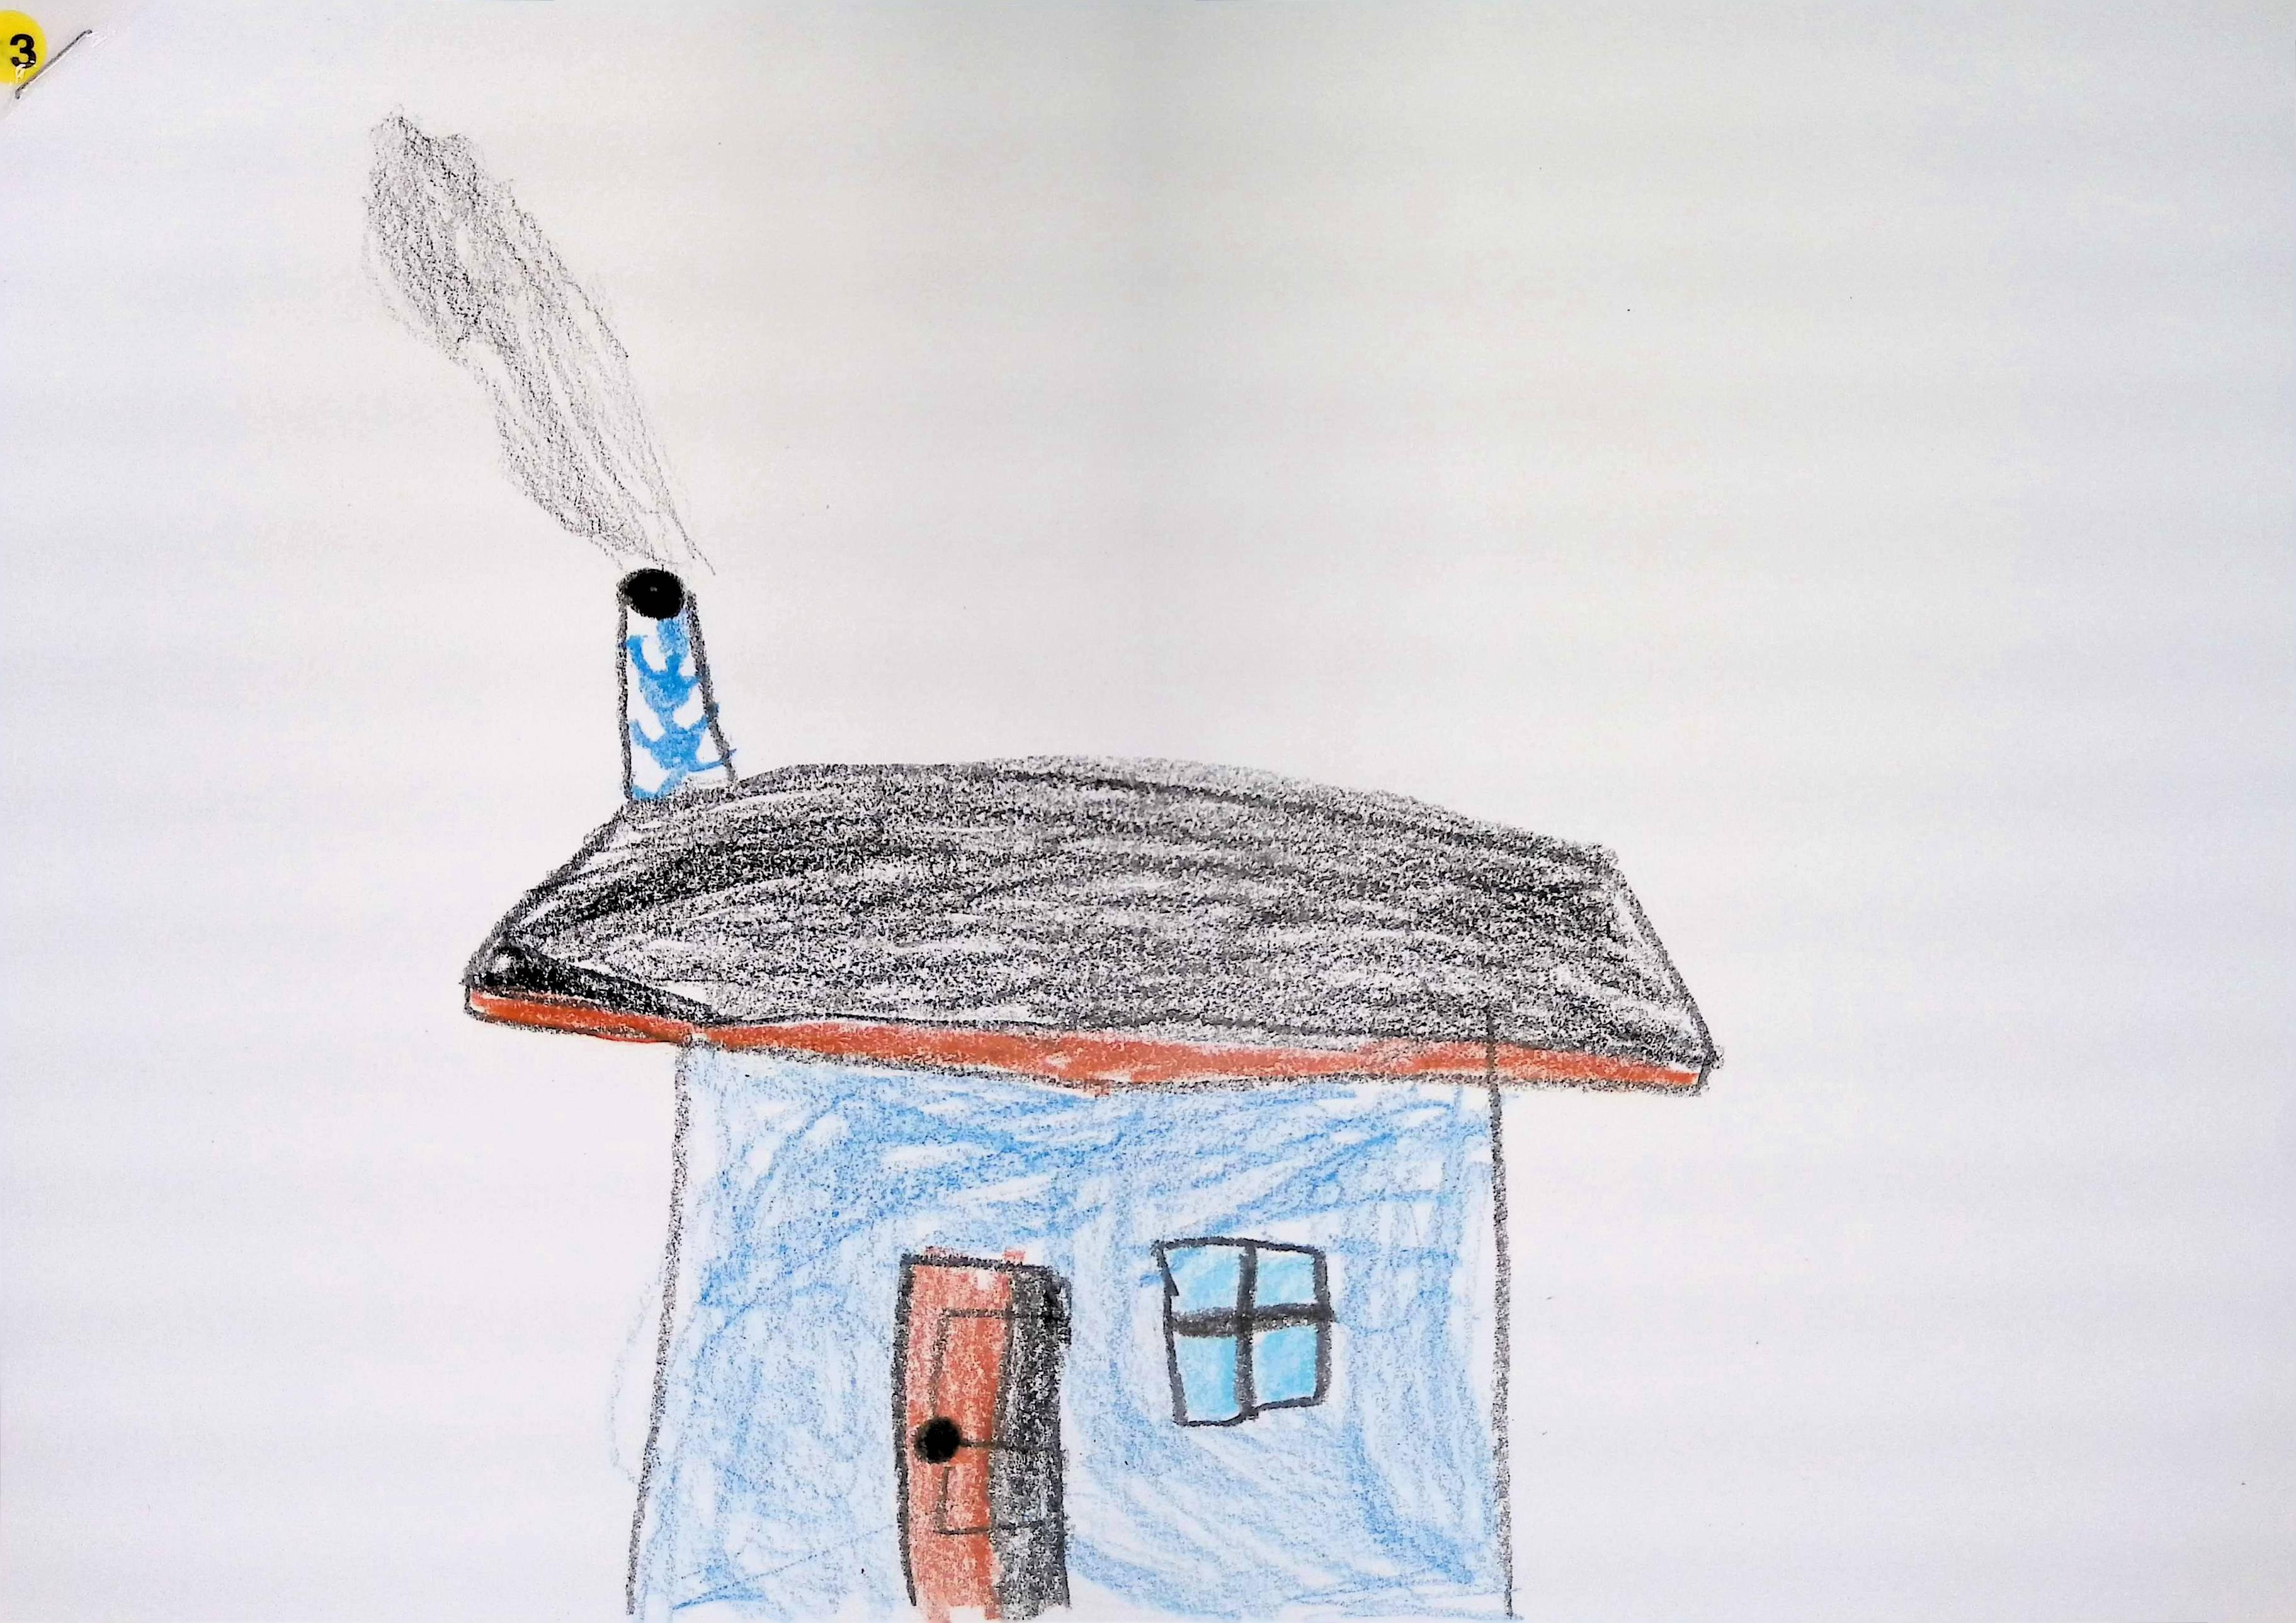chimney: (617, 566, 734, 801)
door: (892, 1251, 1070, 1623)
house: (462, 569, 1720, 1621)
roof: (462, 755, 1722, 1089)
wall: (629, 1045, 1509, 1621)
window: (1154, 1238, 1335, 1428)
